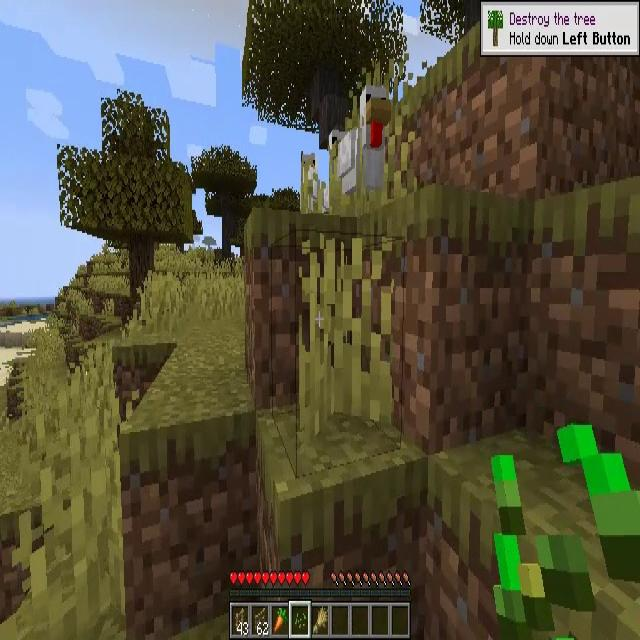duck: (339, 85, 389, 209), (301, 151, 329, 214)
